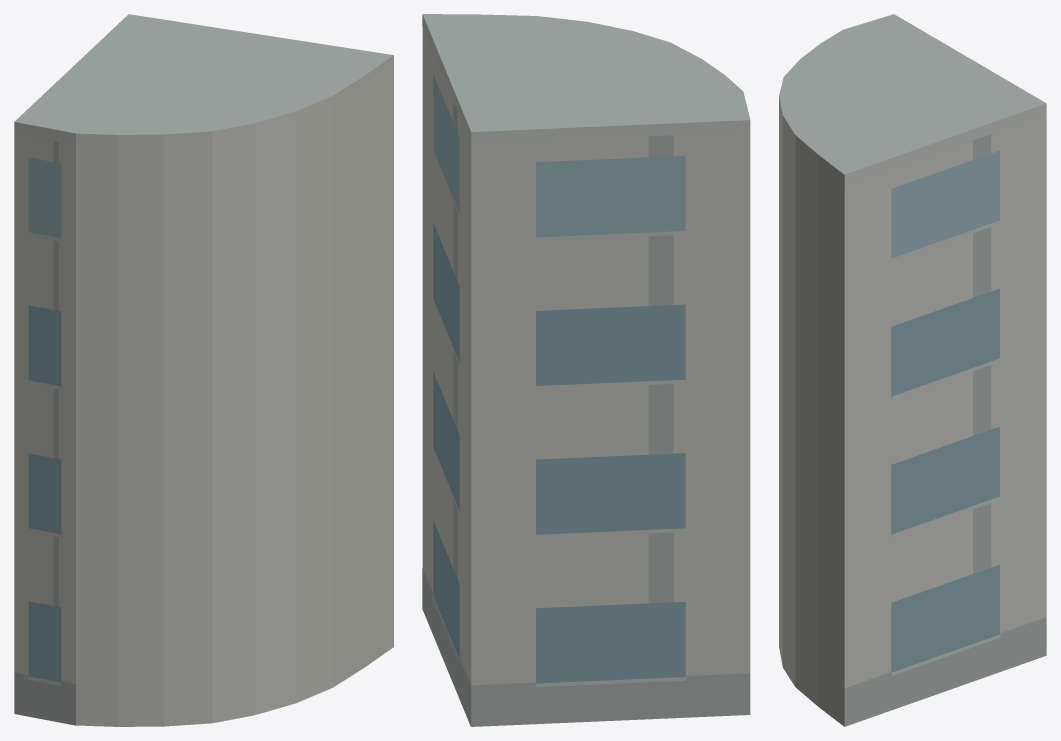
The model's file is survey-upis-32697283.glb.
The picture shows the model from 3 angles, left to right: view 1: azimuth 30°, elevation 25°; view 2: azimuth 150°, elevation 25°; view 3: azimuth 270°, elevation 25°; orthographic projection. The views are drawn at different scales.
Parts seen in each view (by area): view 1: survey-upis-32697283.tmp; view 2: survey-upis-32697283.tmp; view 3: survey-upis-32697283.tmp.
Boxes of the visible parts, x1,y1,x2,y2 form: survey-upis-32697283.tmp: [14, 14, 393, 726]; survey-upis-32697283.tmp: [422, 14, 750, 726]; survey-upis-32697283.tmp: [779, 14, 1046, 726].
Bounding box in the file's own units: 7.62 × 12.2 × 5.36.
